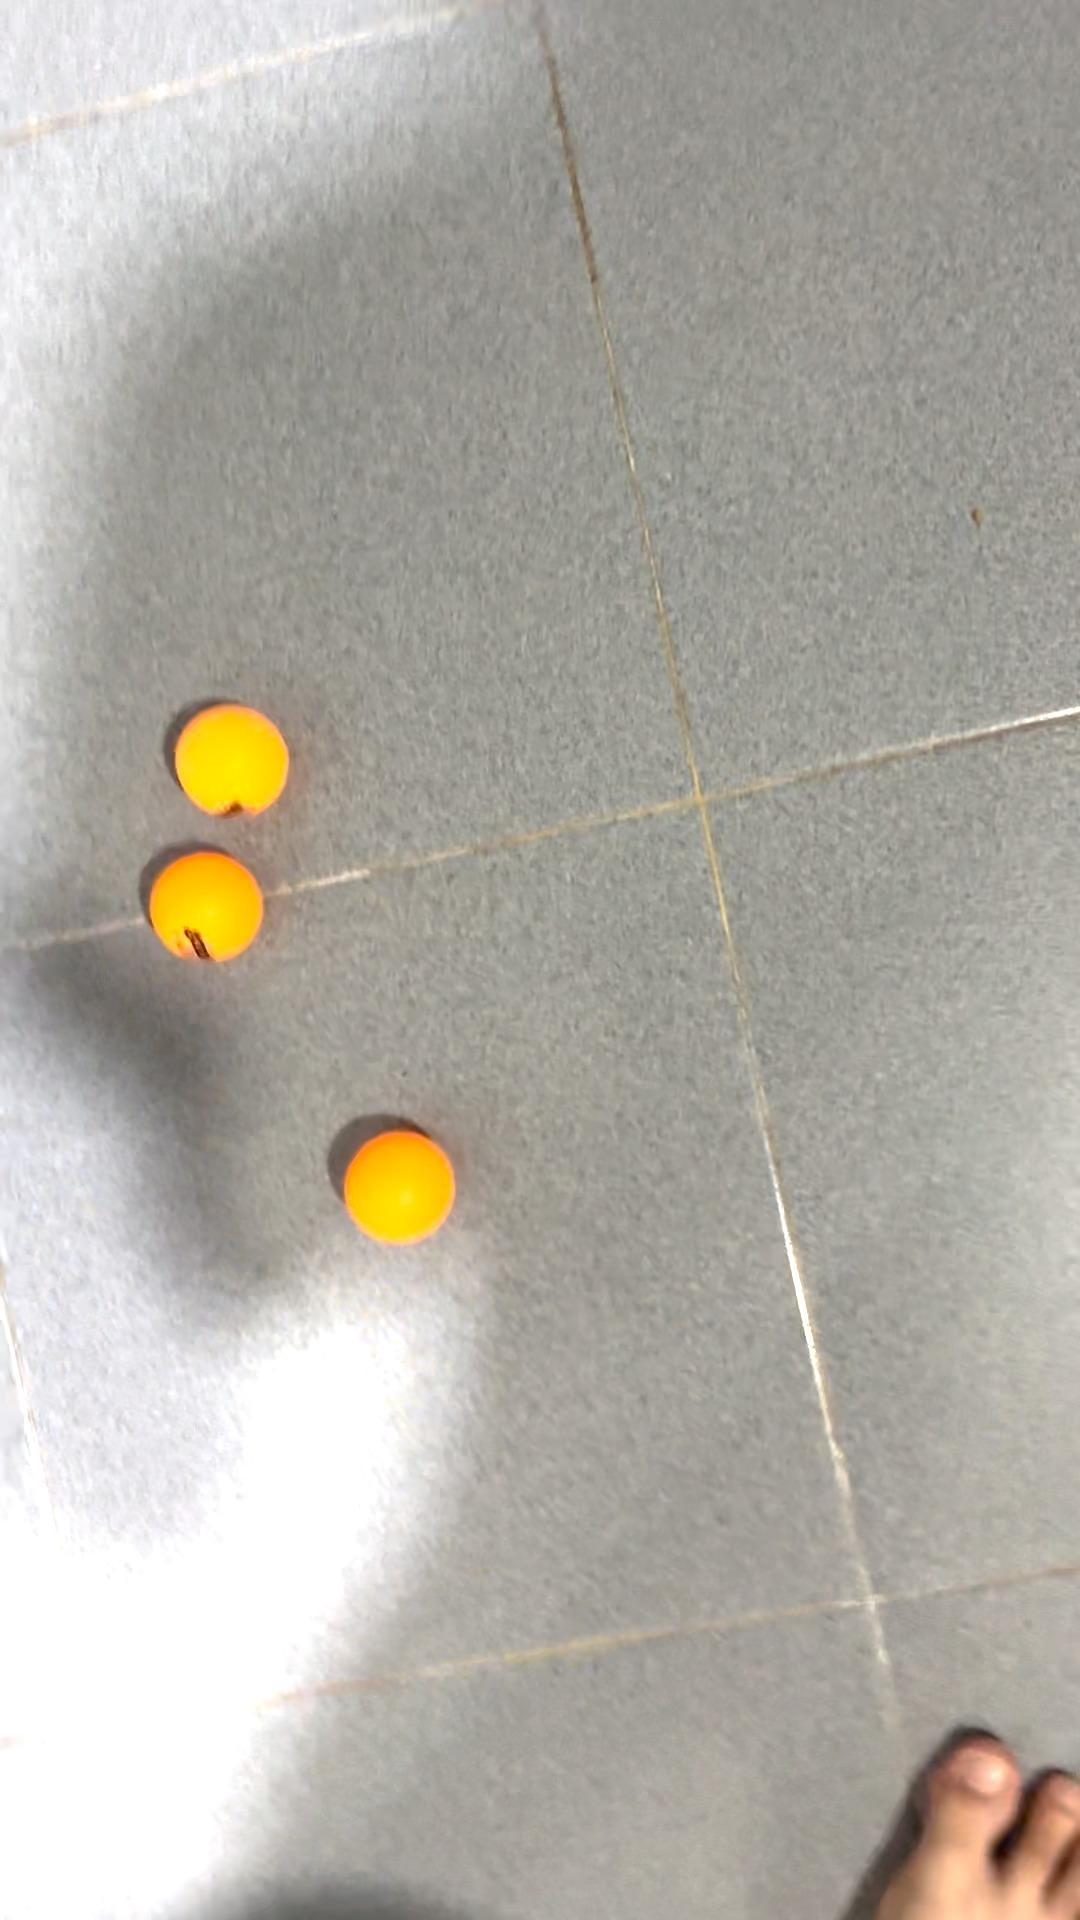oball: (154, 698, 306, 833), (328, 1125, 464, 1255), (149, 843, 270, 967)
